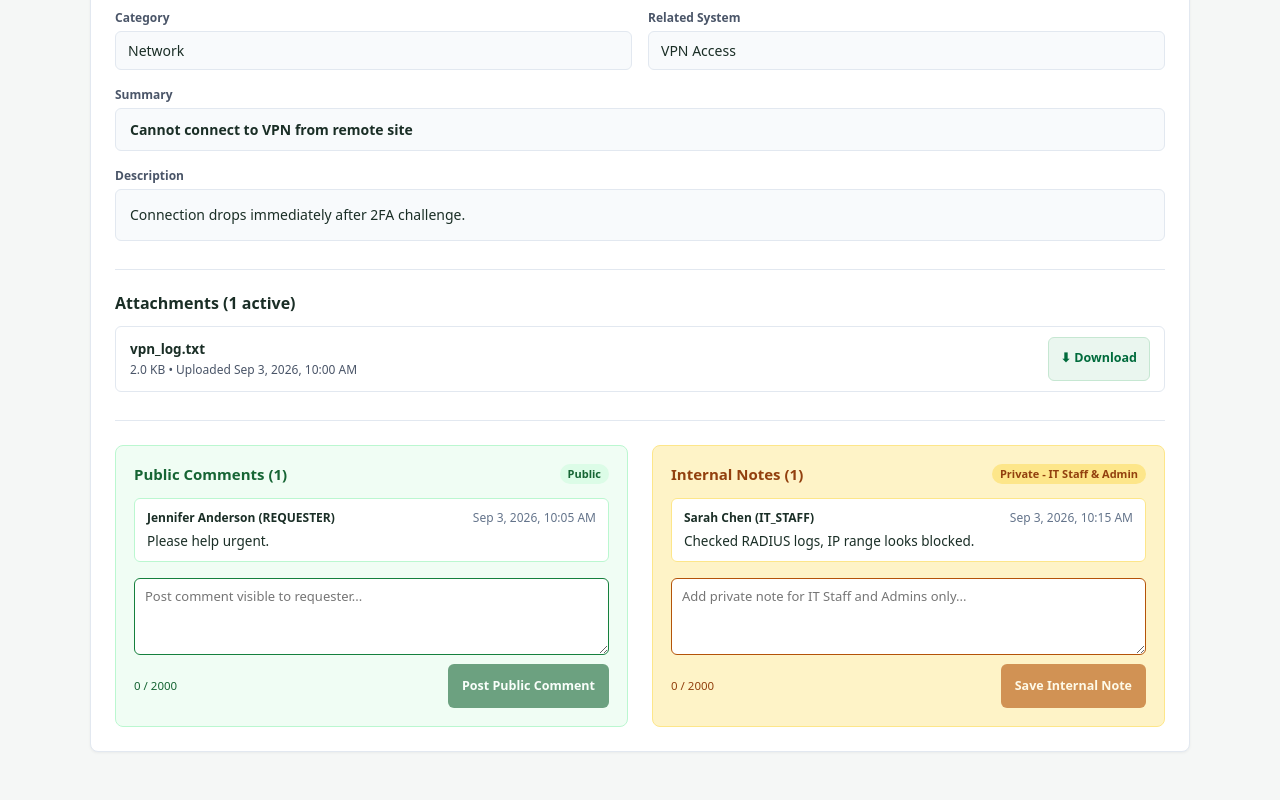
Test case: UI-05, UI-06, UI-09: Staff Ticket Detail Operations Component › handles refresh failure rule: note saved, mutation buttons disabled, reload offered without retrying note
The image size is (1280, 800).
(page scrolled)
Type "Note created but reload fails." into the text box with test id "input-internal-note" at (908,617), box left=671, top=578, right=1146, bottom=655
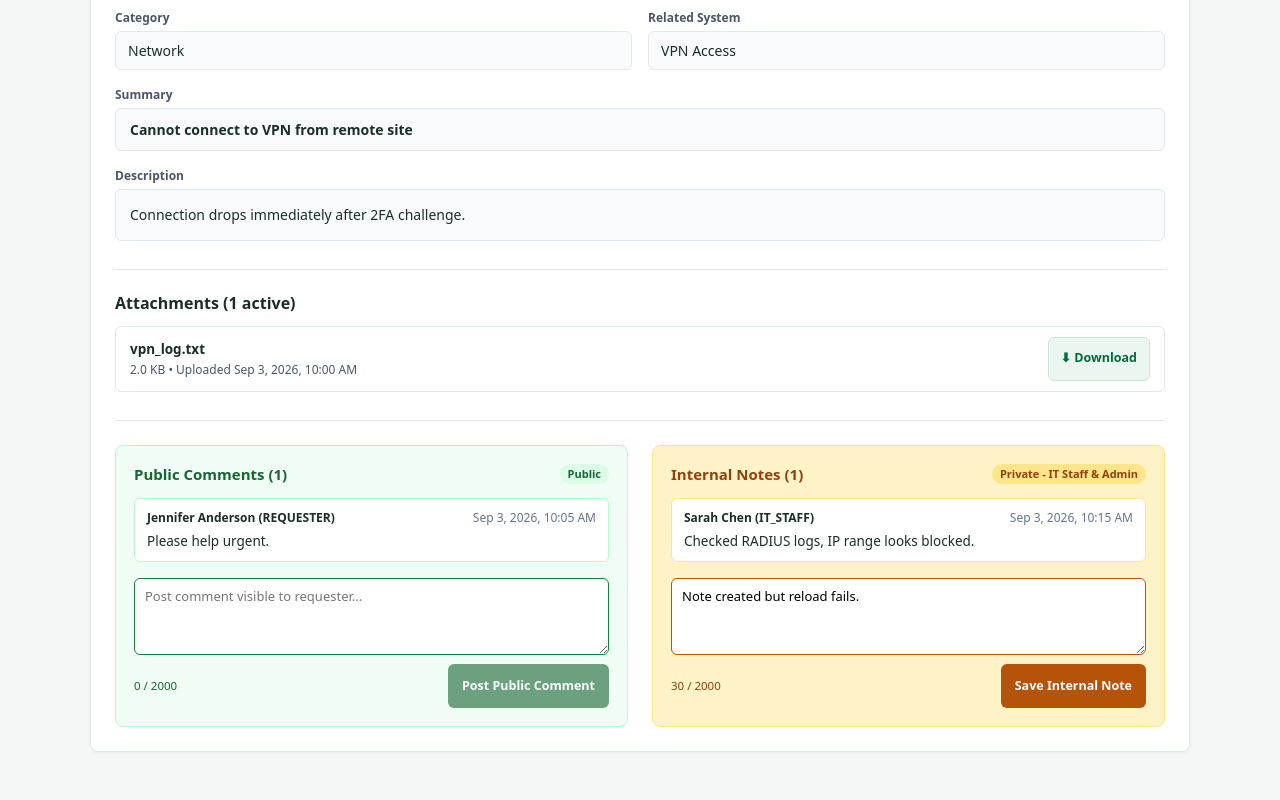
Click the button with test id "btn-submit-internal-note" at (1073,686), box left=1001, top=664, right=1146, bottom=708
(page scrolled)
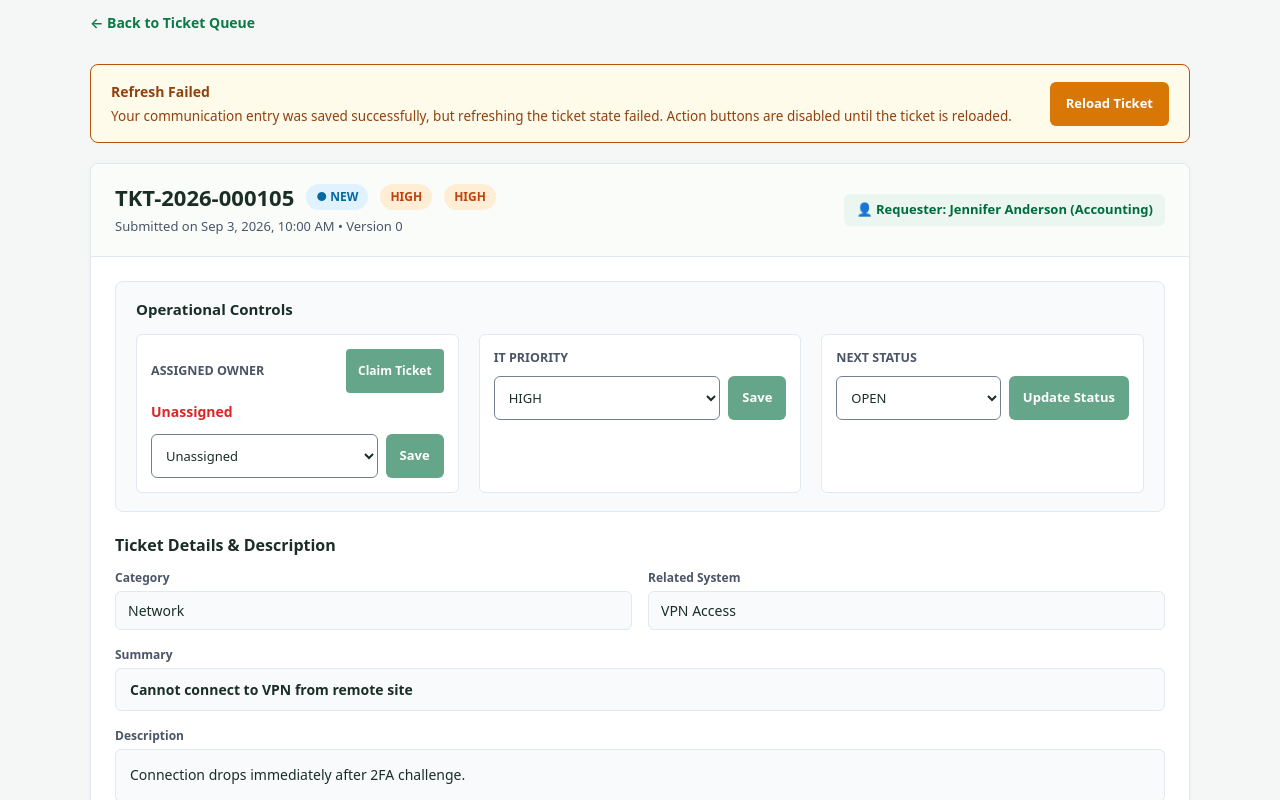
Now the element with test id "staff-refresh-failed-banner" is shown, box left=90, top=64, right=1190, bottom=143
Now the button with test id "btn-save-it-priority" is disabled, box left=728, top=376, right=786, bottom=420
Now the button with test id "btn-save-status" is disabled, box left=1009, top=376, right=1129, bottom=420
